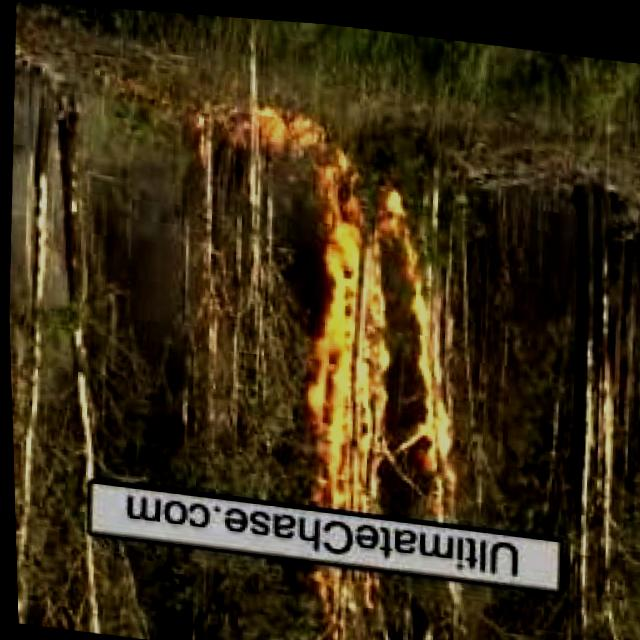Fire: (296, 157, 467, 519), (233, 97, 355, 183), (304, 558, 381, 640), (226, 97, 340, 149)
